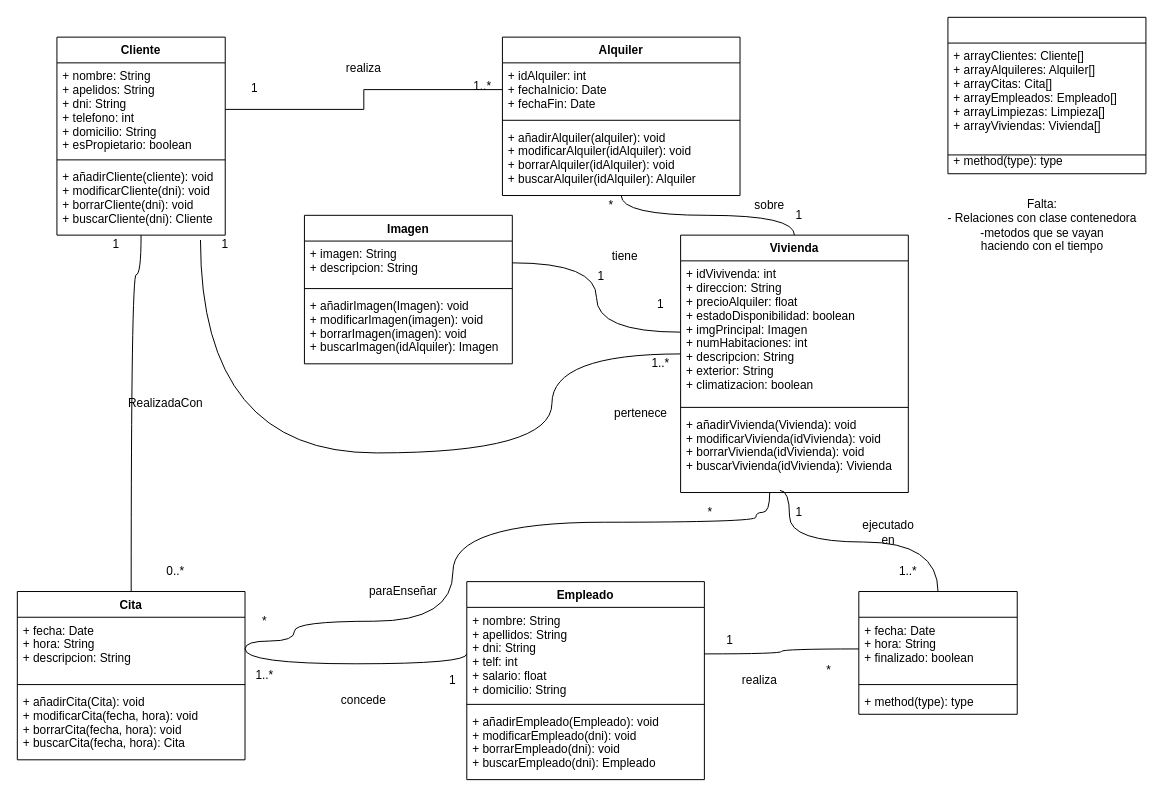
The diagram is 1163 pixels wide and 800 high, and some of its shapes have lost their labels. The shapes that lost their labels are listed below. From the top down, each one's box as (x1, y1, x2, y2) in pixels, then its label:
(947, 16, 1146, 174): UPOHOME
(858, 591, 1017, 714): Limpieza
